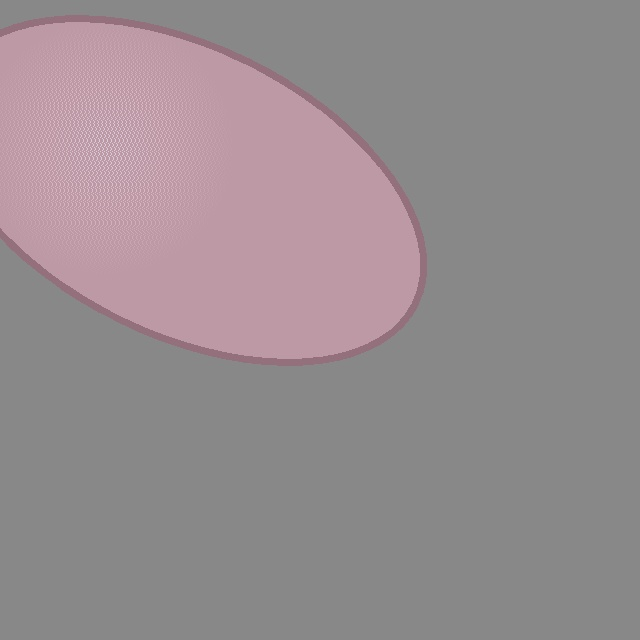lens: (0, 19, 423, 361)
